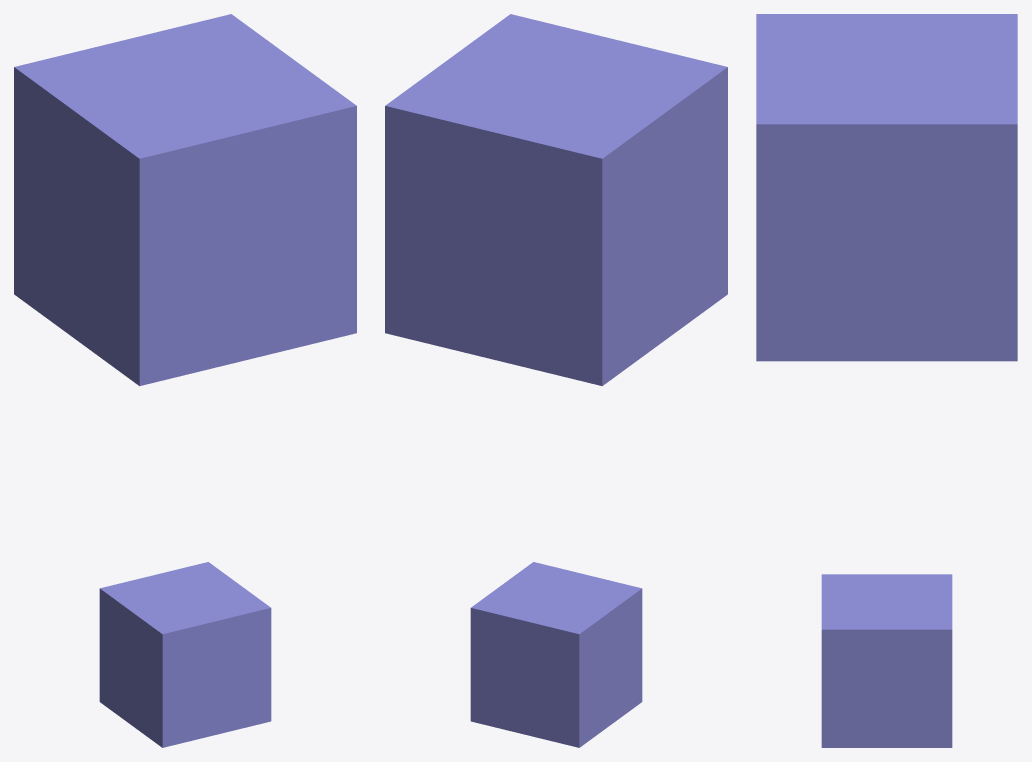
Rendered from ManyLods.fbx.
3 views of the same model, side by side, from view 1: azimuth 30°, elevation 25°; view 2: azimuth 150°, elevation 25°; view 3: azimuth 270°, elevation 25° (orthographic). The views are drawn at different scales.
Parts seen in each view (by area): view 1: Gap_LOD0, Tower_LOD0; view 2: Gap_LOD0, Tower_LOD0; view 3: Gap_LOD0, Tower_LOD0.
Boxes of the visible parts, x1,y1,x2,y2 form: Gap_LOD0: [14, 14, 356, 386]; Tower_LOD0: [99, 562, 271, 747]; Gap_LOD0: [385, 14, 727, 386]; Tower_LOD0: [470, 562, 642, 747]; Gap_LOD0: [756, 14, 1017, 361]; Tower_LOD0: [821, 574, 952, 747].
Size of what is drawn, in the model's own units: 200 by 550 by 200.
